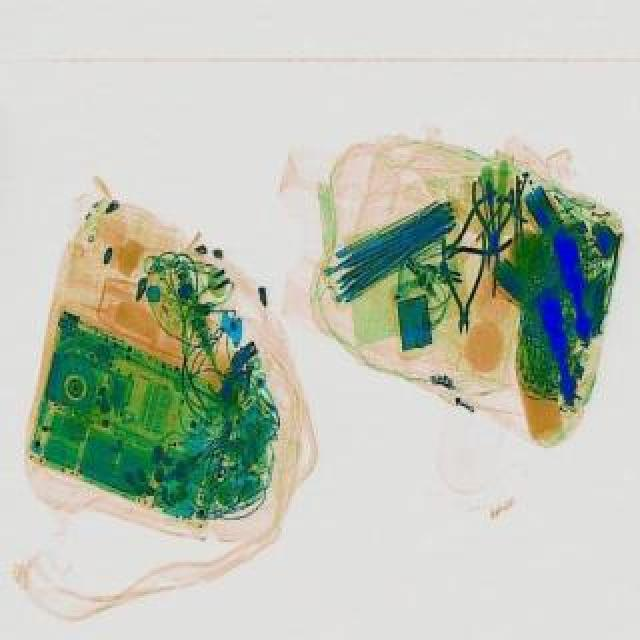wrench: (424, 188, 526, 276), (462, 180, 518, 296), (438, 232, 486, 332)
